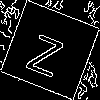Z: (25, 25, 69, 78)
